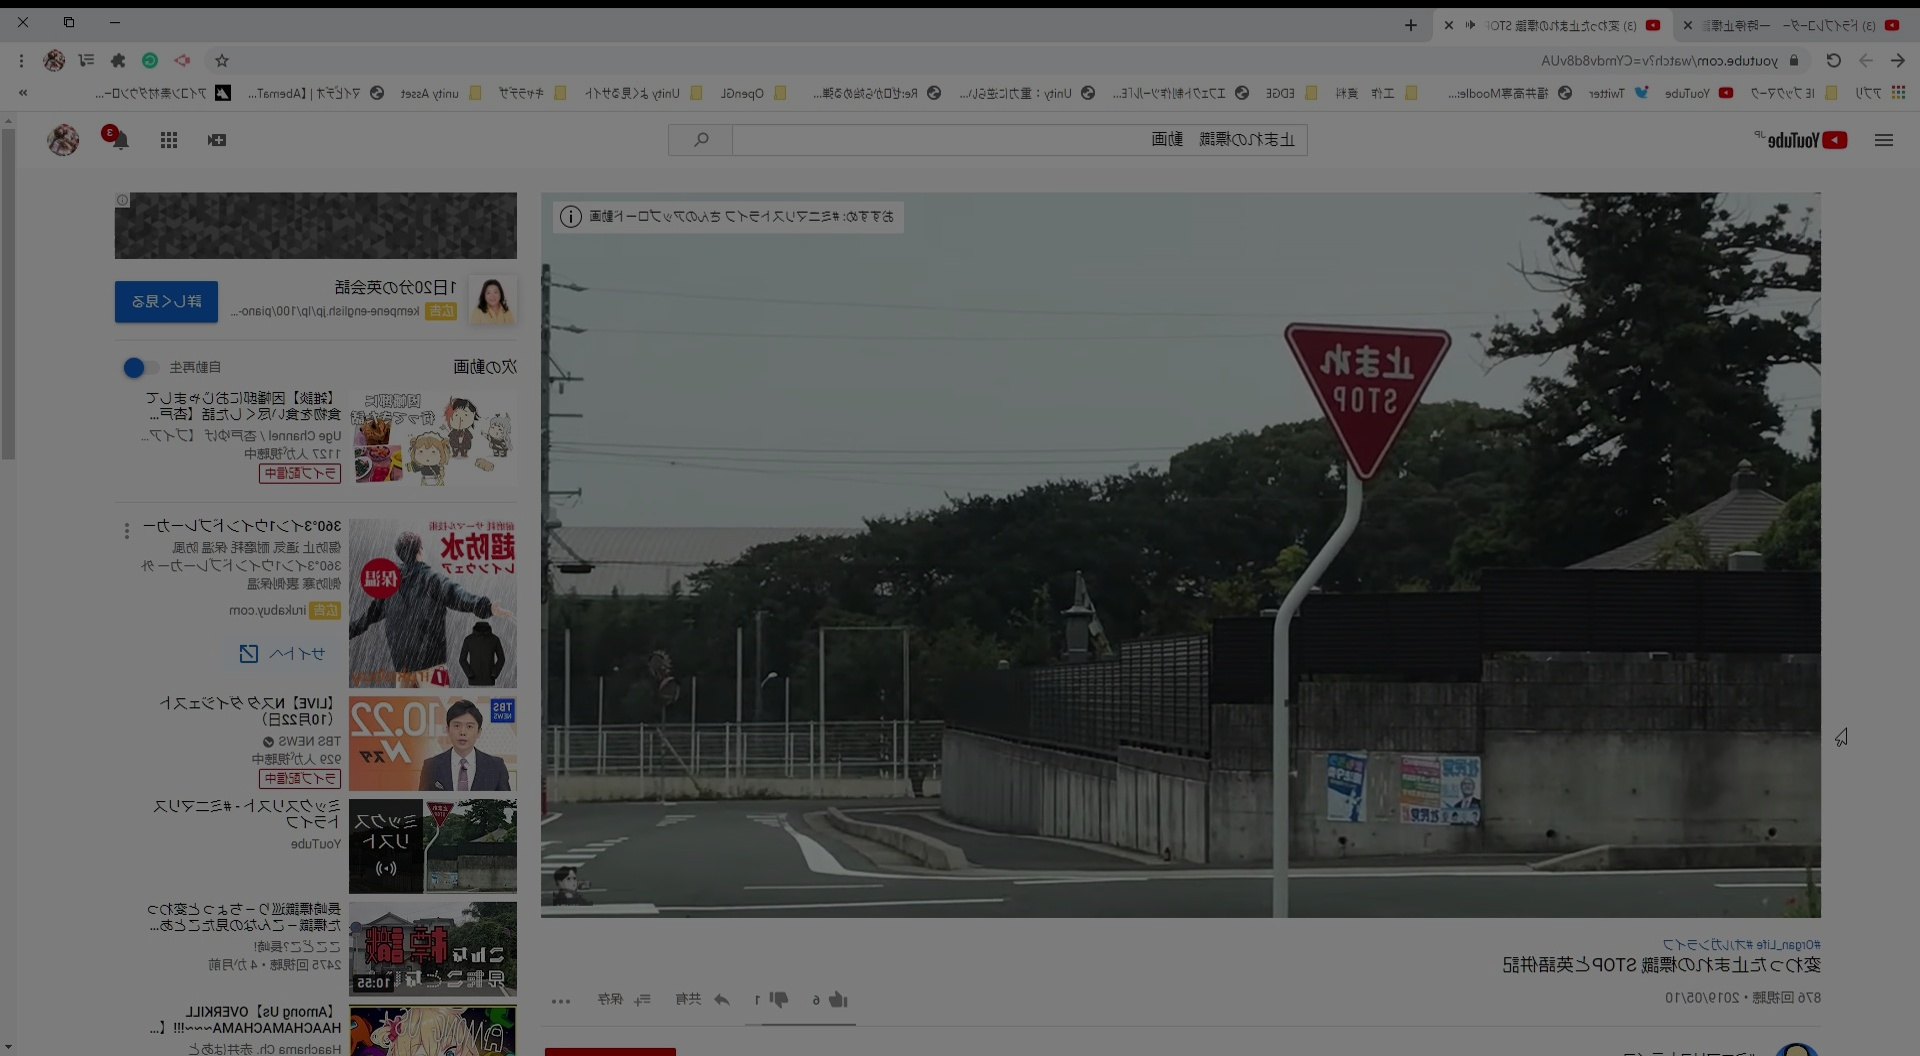Regulatory_sign_triangle: (1280, 307, 1461, 494)
